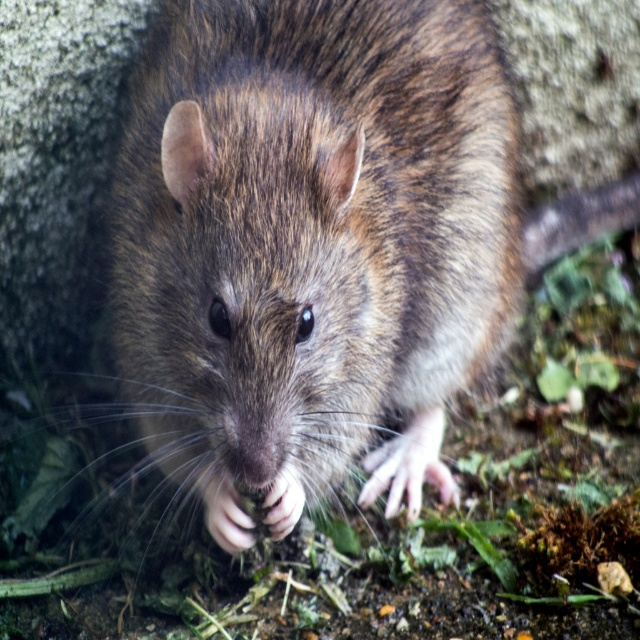Mouse: (0, 0, 640, 601)
